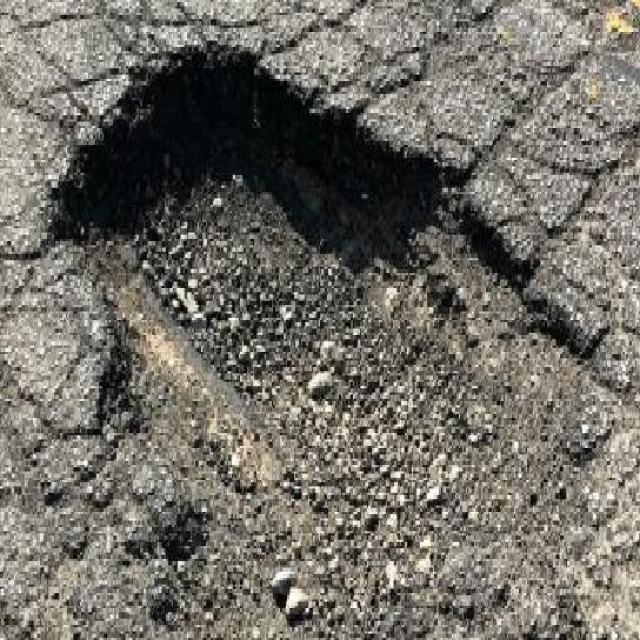pothole: (41, 38, 624, 638)
